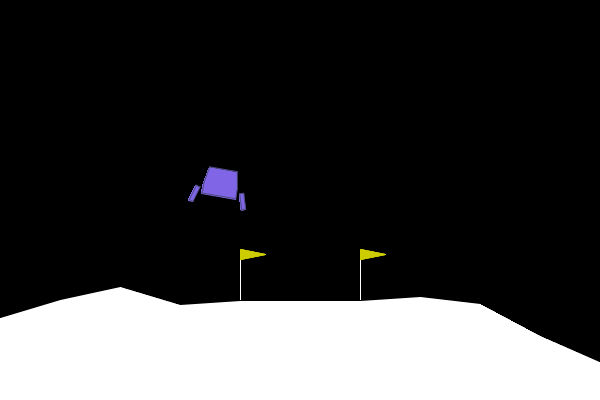lander: (187, 163, 253, 212)
